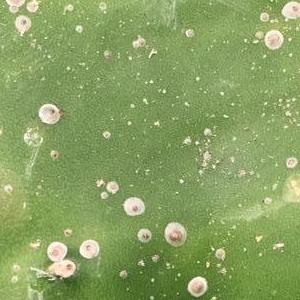Femea: (167, 226, 185, 247), (40, 103, 59, 120), (124, 197, 141, 214), (47, 243, 65, 258), (14, 16, 32, 30), (208, 280, 222, 298), (80, 242, 96, 257), (286, 2, 299, 17), (55, 262, 74, 272), (265, 33, 279, 46), (137, 230, 150, 241), (4, 0, 23, 6), (107, 182, 118, 192), (27, 2, 36, 12), (216, 247, 224, 257), (136, 37, 145, 45), (8, 5, 18, 12), (101, 130, 110, 136), (260, 13, 267, 20), (62, 229, 70, 235), (4, 185, 12, 191), (74, 25, 80, 32), (51, 150, 57, 157)
Linfa: (65, 61, 88, 71), (115, 50, 133, 60), (202, 150, 212, 160), (203, 126, 212, 135), (183, 135, 191, 144), (136, 258, 145, 266), (94, 179, 104, 186), (153, 120, 160, 127), (141, 98, 149, 104), (221, 112, 228, 118), (254, 235, 261, 241), (264, 196, 270, 203), (194, 76, 200, 81), (128, 102, 134, 107), (125, 120, 131, 125), (193, 140, 199, 145), (77, 84, 83, 89), (179, 177, 184, 183), (284, 111, 291, 115), (161, 88, 166, 93), (183, 101, 188, 106), (219, 91, 223, 96), (149, 79, 154, 83), (46, 54, 51, 58), (150, 277, 154, 282), (278, 98, 283, 102), (291, 97, 295, 101), (286, 103, 290, 107), (20, 31, 23, 35)
Macho: (272, 242, 286, 248), (153, 47, 157, 60), (64, 7, 67, 16)
